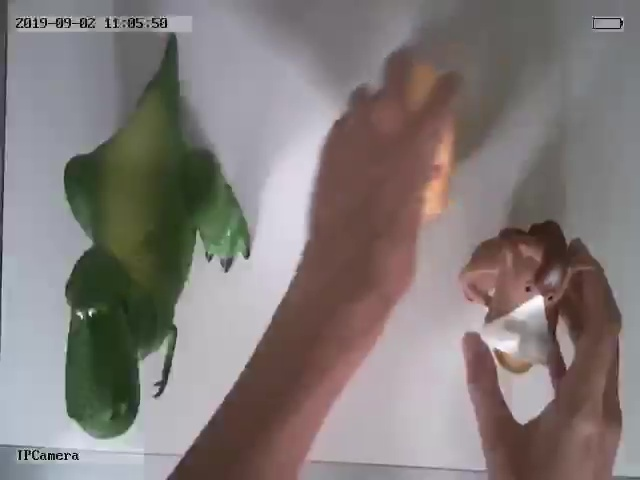rex: (62, 45, 250, 438)
